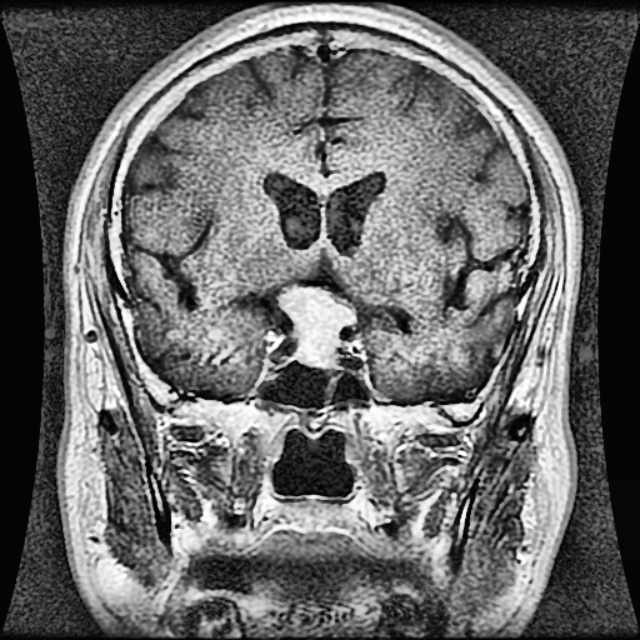Pituitary: (278, 288, 353, 367)
